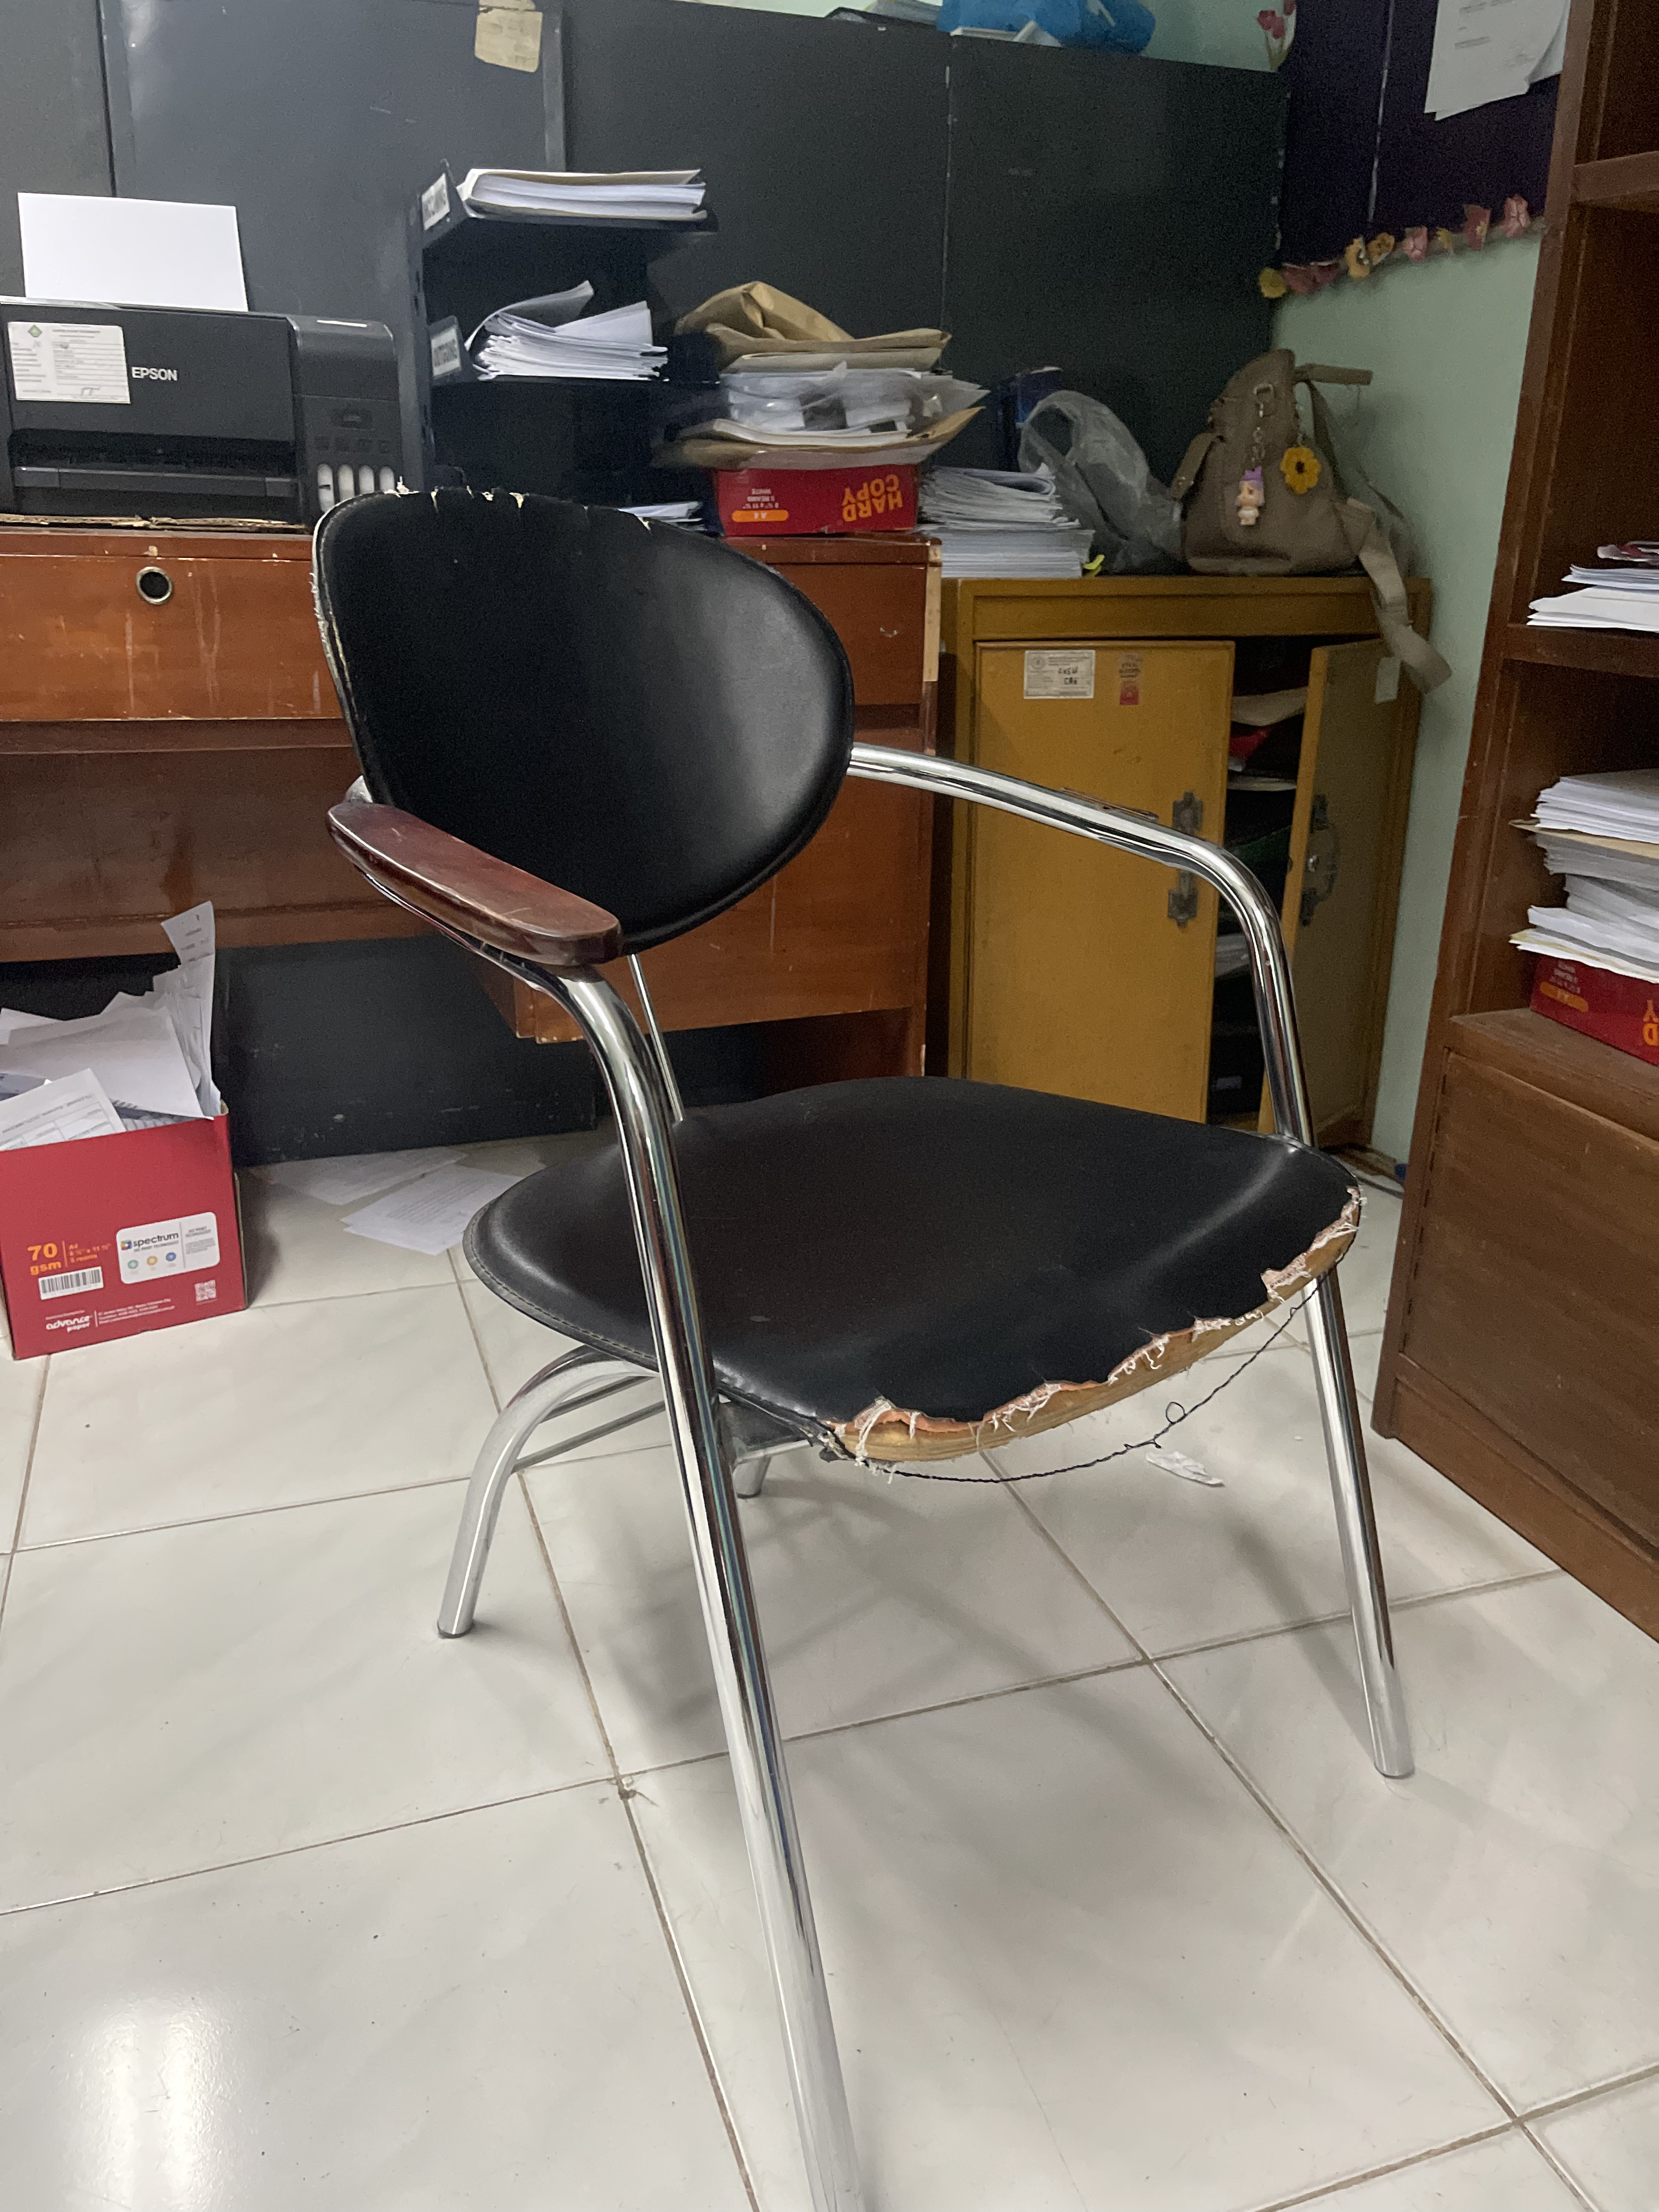chair1: (298, 493, 1420, 2212)
